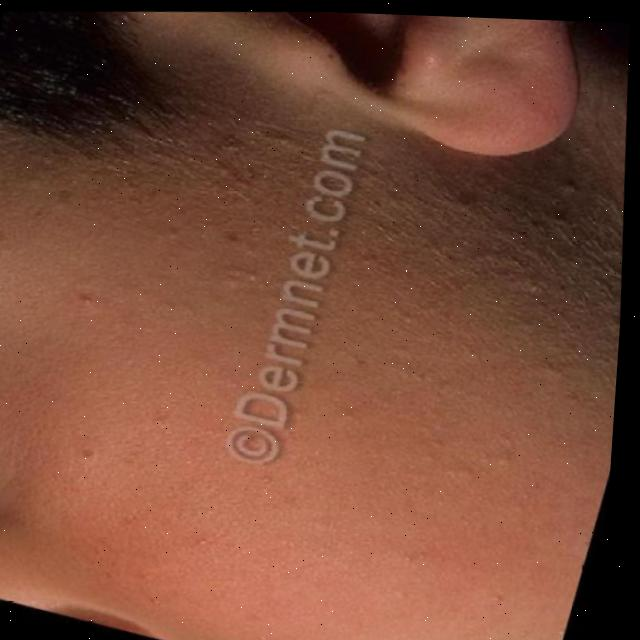Eczema: (0, 263, 551, 638)
